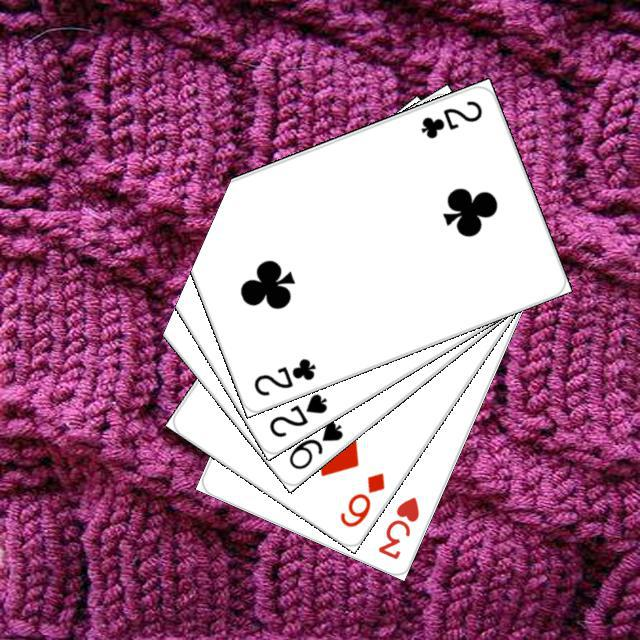2c: (415, 95, 484, 141), (249, 353, 318, 398)
2s: (264, 388, 329, 440)
3h: (373, 491, 421, 561)
6d: (334, 467, 387, 529)
9s: (283, 416, 345, 472)
